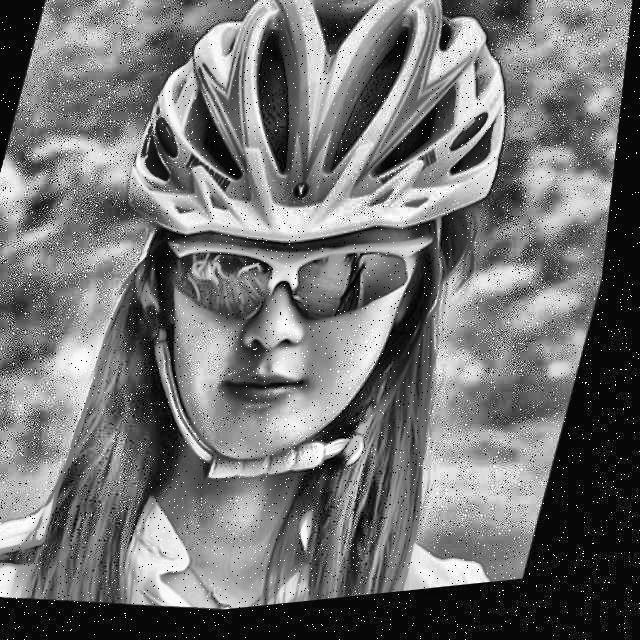Helmet: (45, 0, 562, 540)
